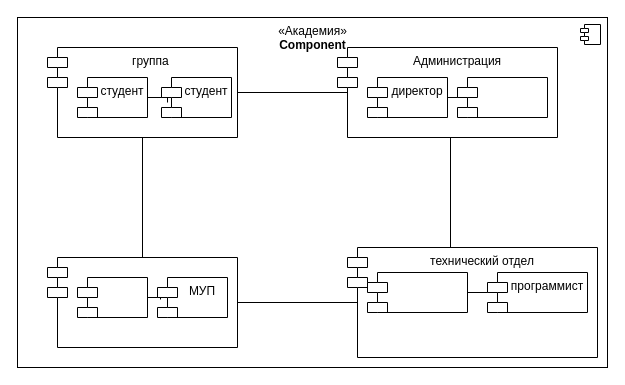
Some shapes in this 625 by 385 pixel diagram are drawn without their labels. The shapes that lost their labels are listed below. From the top down, each one's box as (x1, y1, x2, y2) in pixels, then its label:
(456, 76, 548, 118): заместитель директора
(76, 276, 148, 318): учитель
(46, 256, 238, 348): Учебная часть
(366, 272, 468, 312): системный администратор
